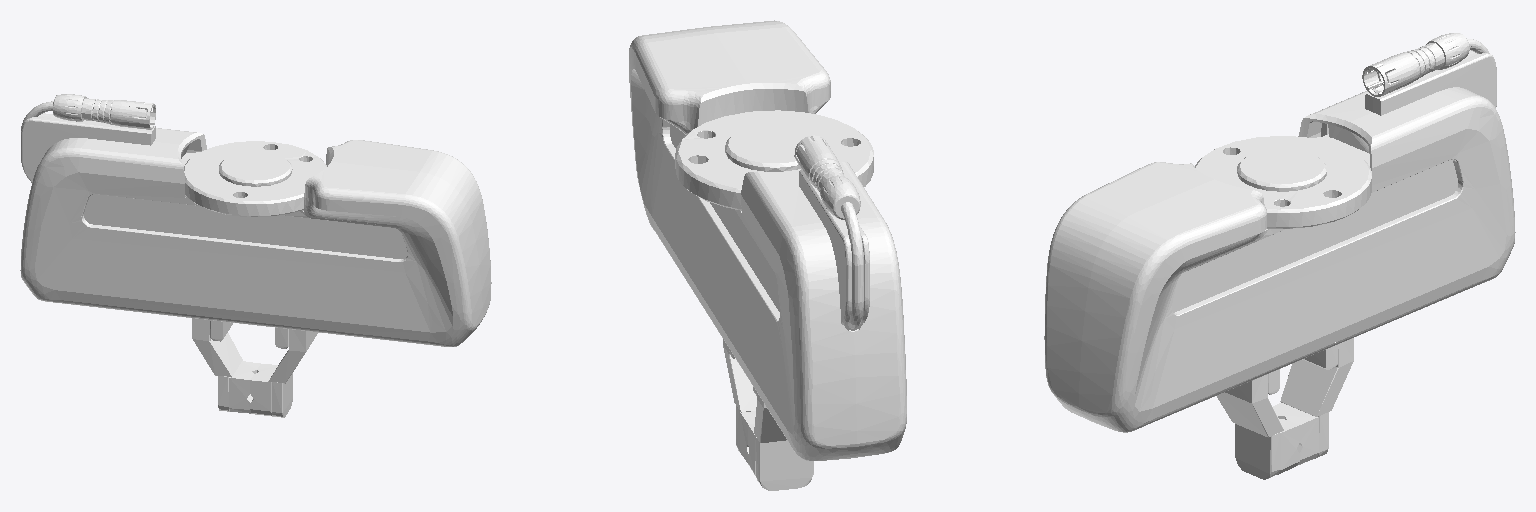
URDF robot description (panda_gripper):
<?xml version="1.0" ?>
<!-- =================================================================================== -->
<!-- |    This document was autogenerated by xacro from src/my_franka_description/urdf/panda_gripper.xacro | -->
<!-- |    EDITING THIS FILE BY HAND IS NOT RECOMMENDED                                 | -->
<!-- =================================================================================== -->
<robot name="panda_gripper">
  <!-- Modifed from https://github.com/StanfordASL/PandaRobot.jl -->
  <link name="panda_link0">
    <visual>
      <geometry>
        <mesh filename="./panda/meshes/visual/link0.stl"/>
      </geometry>
      <material name="panda_white"/>
    </visual>
    <collision>
      <geometry>
        <mesh filename="./panda/meshes/collision/link0.obj"/>
      </geometry>
      <material name="panda_white"/>
    </collision>
  </link>
  <link name="panda_link1">
    <visual>
      <geometry>
        <mesh filename="./panda/meshes/visual/link1.stl"/>
      </geometry>
      <material name="panda_white"/>
    </visual>
    <collision>
      <geometry>
        <mesh filename="./panda/meshes/collision/link1.obj"/>
      </geometry>
      <material name="panda_white"/>
    </collision>
  </link>
  <joint name="panda_joint1" type="revolute">
    <safety_controller k_position="100.0" k_velocity="40.0" soft_lower_limit="-2.8973" soft_upper_limit="2.8973"/>
    <origin rpy="0 0 0" xyz="0 0 0.333"/>
    <parent link="panda_link0"/>
    <child link="panda_link1"/>
    <axis xyz="0 0 1"/>
    <limit effort="87" lower="-2.9671" upper="2.9671" velocity="2.1750"/>
  </joint>
  <link name="panda_link2">
    <visual>
      <geometry>
        <mesh filename="./panda/meshes/visual/link2.stl"/>
      </geometry>
      <material name="panda_white"/>
    </visual>
    <collision>
      <geometry>
        <mesh filename="./panda/meshes/collision/link2.obj"/>
      </geometry>
      <material name="panda_white"/>
    </collision>
  </link>
  <joint name="panda_joint2" type="revolute">
    <safety_controller k_position="100.0" k_velocity="40.0" soft_lower_limit="-1.7628" soft_upper_limit="1.7628"/>
    <origin rpy="-1.57079632679 0 0" xyz="0 0 0"/>
    <parent link="panda_link1"/>
    <child link="panda_link2"/>
    <axis xyz="0 0 1"/>
    <!-- <limit effort="87" lower="-1.8326" upper="1.8326" velocity="2.1750"/> -->
    <!-- change joint lower limit -->
    <limit effort="87" lower="-1.0" upper="1.75" velocity="2.1750"/>
  </joint>
  <link name="panda_link3">
    <visual>
      <geometry>
        <mesh filename="./panda/meshes/visual/link3.stl"/>
      </geometry>
      <material name="panda_white"/>
    </visual>
    <collision>
      <geometry>
        <mesh filename="./panda/meshes/collision/link3.obj"/>
      </geometry>
      <material name="panda_white"/>
    </collision>
  </link>
  <joint name="panda_joint3" type="revolute">
    <safety_controller k_position="100.0" k_velocity="40.0" soft_lower_limit="-2.8973" soft_upper_limit="2.8973"/>
    <origin rpy="1.57079632679 0 0" xyz="0 -0.316 0"/>
    <parent link="panda_link2"/>
    <child link="panda_link3"/>
    <axis xyz="0 0 1"/>
    <limit effort="87" lower="-2.9671" upper="2.9671" velocity="2.1750"/>
  </joint>
  <link name="panda_link4">
    <visual>
      <geometry>
        <mesh filename="./panda/meshes/visual/link4.stl"/>
      </geometry>
      <material name="panda_white"/>
    </visual>
    <collision>
      <geometry>
        <mesh filename="./panda/meshes/collision/link4.obj"/>
      </geometry>
      <material name="panda_white"/>
    </collision>
  </link>
  <joint name="panda_joint4" type="revolute">
    <safety_controller k_position="100.0" k_velocity="40.0" soft_lower_limit="-3.0718" soft_upper_limit="-0.0698"/>
    <origin rpy="1.57079632679 0 0" xyz="0.0825 0 0"/>
    <parent link="panda_link3"/>
    <child link="panda_link4"/>
    <axis xyz="0 0 1"/>
    <limit effort="87" lower="-3.1416" upper="0.0" velocity="2.1750"/>
  </joint>
  <link name="panda_link5">
    <visual>
      <geometry>
        <mesh filename="./panda/meshes/visual/link5.stl"/>
      </geometry>
      <material name="panda_white"/>
    </visual>
    <collision>
      <geometry>
        <mesh filename="./panda/meshes/collision/link5.obj"/>
      </geometry>
      <material name="panda_white"/>
    </collision>
  </link>
  <joint name="panda_joint5" type="revolute">
    <safety_controller k_position="100.0" k_velocity="40.0" soft_lower_limit="-2.8973" soft_upper_limit="2.8973"/>
    <origin rpy="-1.57079632679 0 0" xyz="-0.0825 0.384 0"/>
    <parent link="panda_link4"/>
    <child link="panda_link5"/>
    <axis xyz="0 0 1"/>
    <limit effort="12" lower="-2.9671" upper="2.9671" velocity="2.6100"/>
  </joint>
  <link name="panda_link6">
    <visual>
      <geometry>
        <mesh filename="./panda/meshes/visual/link6.stl"/>
      </geometry>
      <material name="panda_white"/>
    </visual>
    <collision>
      <geometry>
        <mesh filename="./panda/meshes/collision/link6.obj"/>
      </geometry>
      <material name="panda_white"/>
    </collision>
  </link>
  <joint name="panda_joint6" type="revolute">
    <safety_controller k_position="100.0" k_velocity="40.0" soft_lower_limit="-0.0175" soft_upper_limit="3.7525"/>
    <origin rpy="1.57079632679 0 0" xyz="0 0 0"/>
    <parent link="panda_link5"/>
    <child link="panda_link6"/>
    <axis xyz="0 0 1"/>
    <limit effort="12" lower="-0.0873" upper="3.8223" velocity="2.6100"/>
  </joint>
  <link name="panda_link7">
    <visual>
      <geometry>
        <mesh filename="./panda/meshes/visual/link7.stl"/>
      </geometry>
      <material name="panda_white"/>
    </visual>
    <collision>
      <geometry>
        <mesh filename="./panda/meshes/collision/link7.obj"/>
      </geometry>
      <material name="panda_white"/>
    </collision>
  </link>
  <joint name="panda_joint7" type="revolute">
    <safety_controller k_position="100.0" k_velocity="40.0" soft_lower_limit="-2.8973" soft_upper_limit="2.8973"/>
    <origin rpy="1.57079632679 0 0" xyz="0.088 0 0"/>
    <parent link="panda_link6"/>
    <child link="panda_link7"/>
    <axis xyz="0 0 1"/>
    <limit effort="12" lower="-2.9671" upper="2.9671" velocity="2.6100"/>
  </joint>
  <link name="panda_link8"/>
  <joint name="panda_joint8" type="fixed">
    <origin rpy="0 0 0" xyz="0 0 0.107"/>
    <parent link="panda_link7"/>
    <child link="panda_link8"/>
    <axis xyz="0 0 0"/>
  </joint>
  <!-- gripper -->
  <joint name="panda_hand_joint" type="fixed">
    <parent link="panda_link8"/>
    <child link="panda_hand"/>
    <origin rpy="0 0 -0.785398163397" xyz="0 0 0"/>
  </joint>
  <link name="panda_hand">
    <visual>
      <geometry>
        <mesh filename="./panda/meshes/visual/hand.stl"/>
      </geometry>
      <material name="panda_white"/>
    </visual>
    <collision>
      <geometry>
        <mesh filename="./panda/meshes/collision/hand.obj"/>
      </geometry>
      <material name="panda_white"/>
    </collision>
  </link>
  <link name="panda_leftfinger">
    <visual>
      <geometry>
        <mesh filename="./panda/meshes/visual/finger.stl"/>
      </geometry>
      <material name="panda_white"/>
    </visual>
    <collision>
      <geometry>
        <mesh filename="./panda/meshes/collision/finger.obj"/>
      </geometry>
      <material name="panda_white"/>
    </collision>
  </link>
  <link name="panda_rightfinger">
    <visual>
      <origin rpy="0 0 3.14159265359" xyz="0 0 0"/>
      <geometry>
        <mesh filename="./panda/meshes/visual/finger.stl"/>
      </geometry>
      <material name="panda_white"/>
    </visual>
    <collision>
      <origin rpy="0 0 3.14159265359" xyz="0 0 0"/>
      <geometry>
        <mesh filename="./panda/meshes/collision/finger.obj"/>
      </geometry>
      <material name="panda_white"/>
    </collision>
  </link>
  <joint name="panda_finger_joint1" type="prismatic">
    <parent link="panda_hand"/>
    <child link="panda_leftfinger"/>
    <origin rpy="0 0 0" xyz="0 0 0.0584"/>
    <axis xyz="0 1 0"/>
    <limit effort="20" lower="0.0" upper="0.04" velocity="0.2"/>
  </joint>
  <joint name="panda_finger_joint2" type="prismatic">
    <parent link="panda_hand"/>
    <child link="panda_rightfinger"/>
    <origin rpy="0 0 0" xyz="0 0 0.0584"/>
    <axis xyz="0 -1 0"/>
    <limit effort="20" lower="0.0" upper="0.04" velocity="0.2"/>
    <mimic joint="panda_finger_joint1"/>
  </joint>
  <material name="panda_white">
    <color rgba="1. 1. 1. 1."/>
  </material>
  <link name="world"/>
  <joint name="world_joint" type="fixed">
    <origin rpy="0 0 0" xyz="0 0 0"/>
    <parent link="world"/>
    <child link="panda_link0"/>
  </joint>
  <link name="wrist"/>
  <joint name="wrist_joint" type="fixed">
    <origin rpy="0 -1.5707963267948966 -1.5707963267948966" xyz="0 0 0"/>
    <parent link="panda_hand"/>
    <child link="wrist"/>
  </joint>

</robot>

--- Facts derived from the render (not from the file) ---
3 views of the same robot in one strip: view 1: azimuth 30°, elevation 25°; view 2: azimuth 150°, elevation 25°; view 3: azimuth 270°, elevation 25° (orthographic).
Robot: panda_gripper — 14 links, 13 joints (7 revolute, 2 prismatic, 4 fixed); root link world; default pose: every joint at zero.
Visible links, largest first — view 1: panda_hand, panda_rightfinger, panda_leftfinger; view 2: panda_hand, panda_rightfinger, panda_leftfinger; view 3: panda_hand, panda_leftfinger, panda_rightfinger.
Link boxes in pixels (left/top/right/bottom): panda_hand: left=20, top=94, right=491, bottom=346; panda_rightfinger: left=192, top=318, right=260, bottom=413; panda_leftfinger: left=250, top=328, right=318, bottom=417; panda_hand: left=629, top=20, right=906, bottom=460; panda_rightfinger: left=748, top=387, right=813, bottom=490; panda_leftfinger: left=723, top=339, right=756, bottom=464; panda_hand: left=1044, top=33, right=1515, bottom=432; panda_leftfinger: left=1217, top=369, right=1299, bottom=479; panda_rightfinger: left=1273, top=338, right=1353, bottom=465.
Size in the robot's own frame: 0.1649 by 0.1649 by 0.1382 metres.
3 mesh visuals loaded from 10 distinct referenced files (2 binary STL); not drawn: 8 (reference not matched to a file when rendering).